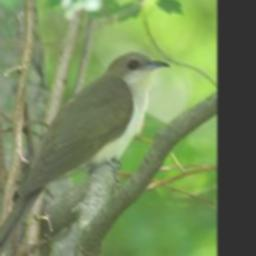Cuckoo: (0, 50, 171, 256)
